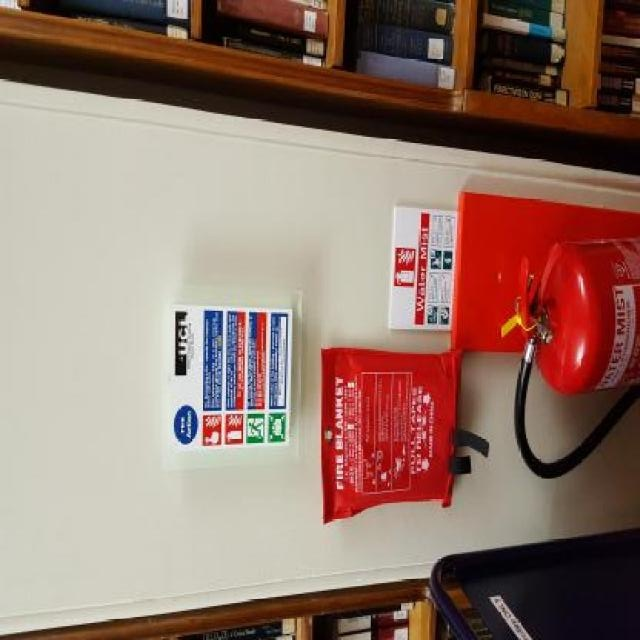fire extinguisher: (512, 237, 640, 478)
